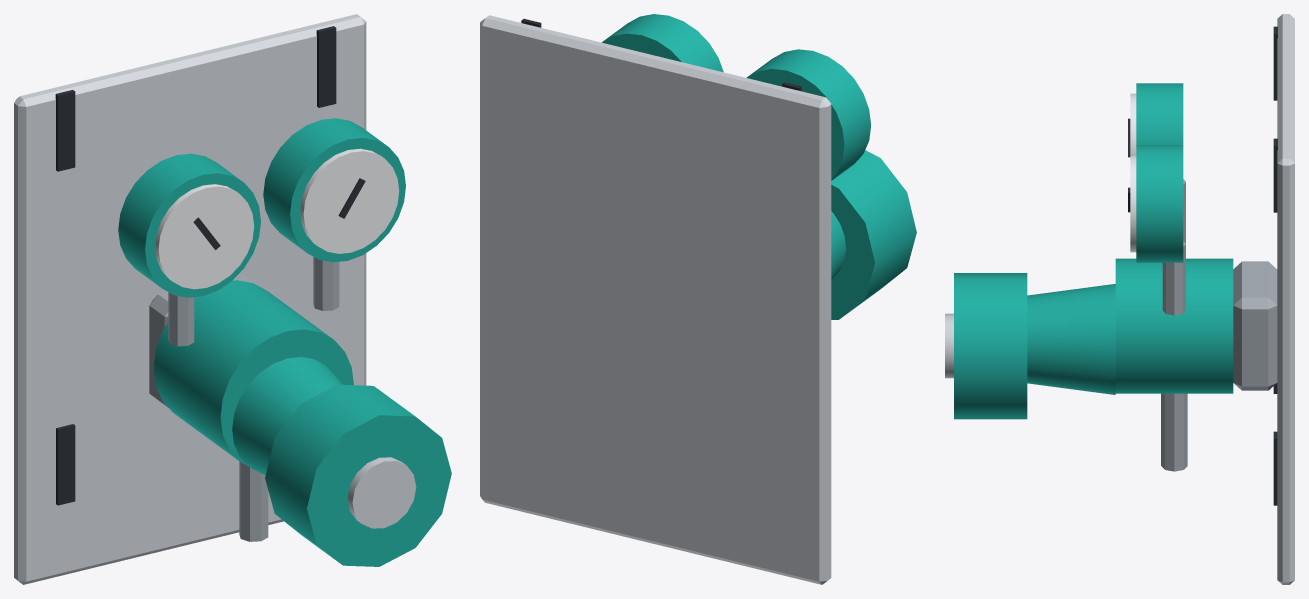
Rendered from point-of-use-regulator.glb.
The picture shows the model from 3 angles, left to right: view 1: azimuth 30°, elevation 25°; view 2: azimuth 150°, elevation 25°; view 3: azimuth 270°, elevation 25°; orthographic projection. The views are drawn at different scales.
Visible parts, largest first — view 1: point-of-use-regulator; view 2: point-of-use-regulator; view 3: point-of-use-regulator.
Boxes of the visible parts, x1,y1,x2,y2 form: point-of-use-regulator: (14,14,451,584); point-of-use-regulator: (480,14,916,584); point-of-use-regulator: (945,14,1294,584).
Size of the model in its own units: 0.24 by 0.32 by 0.238.
